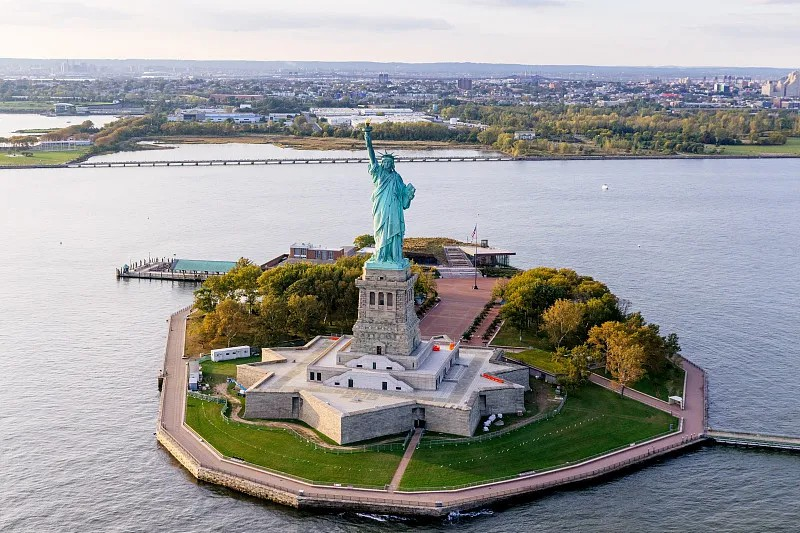SL: (349, 119, 422, 357)
